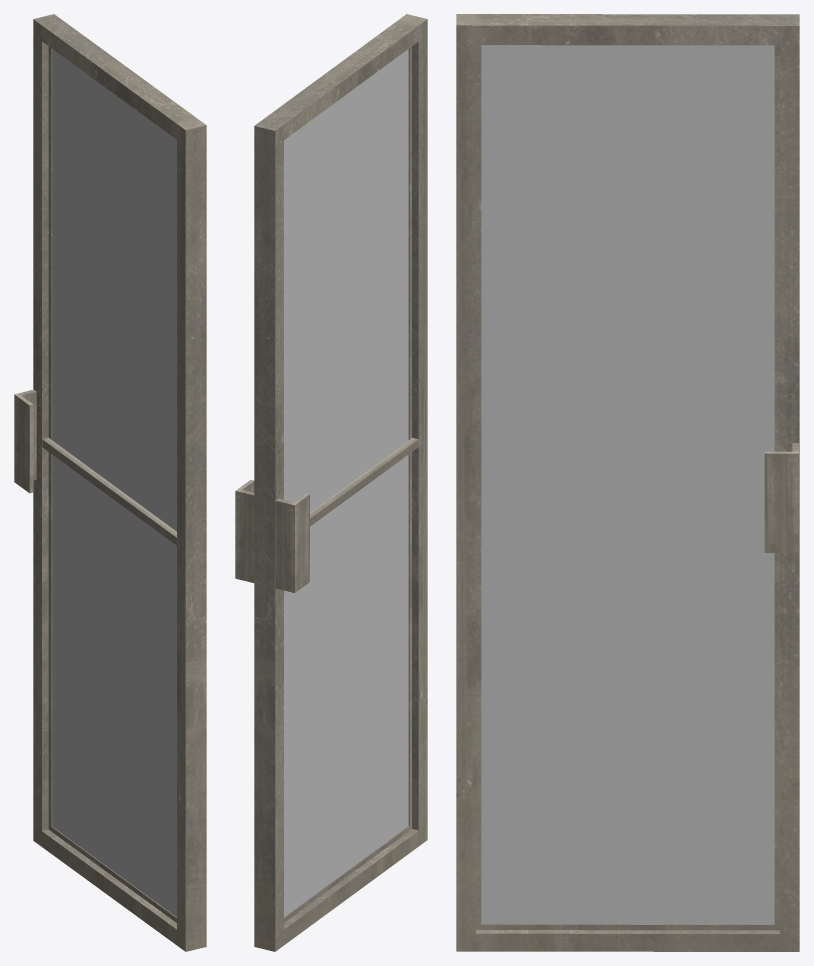
The model's file is left_door.glb.
3 renders of one model, left to right at view 1: azimuth 30°, elevation 25°; view 2: azimuth 150°, elevation 25°; view 3: azimuth 270°, elevation 25°, orthographic. The views are drawn at different scales.
Parts seen in each view (by area): view 1: Door; view 2: Door; view 3: Door.
Boxes of the visible parts, left/top/right/bottom form: Door: left=14, top=14, right=206, bottom=951; Door: left=235, top=14, right=427, bottom=951; Door: left=456, top=14, right=799, bottom=951.
Size of the model in its own units: 0.1837 by 2.43 by 0.8159.
2 materials, 1 textured.
